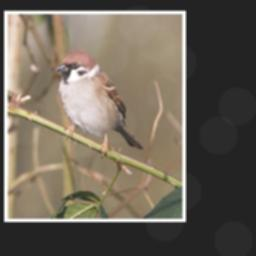Sparrow: (53, 49, 147, 159)
